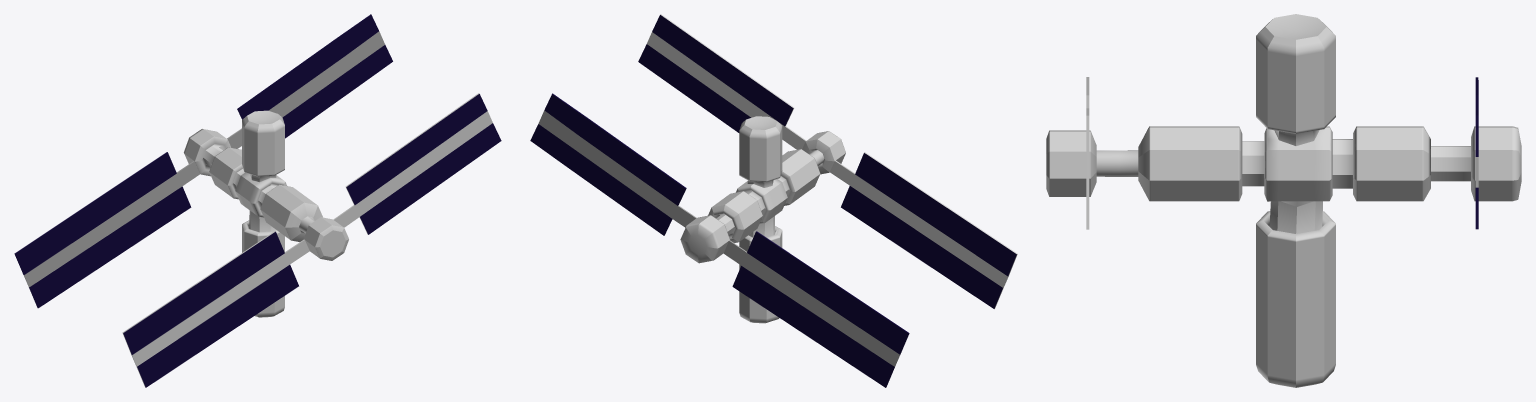
The model's file is StandaloneSatellite.fbx.
3 renders of one model, left to right at view 1: azimuth 30°, elevation 25°; view 2: azimuth 150°, elevation 25°; view 3: azimuth 270°, elevation 25°, orthographic. The views are drawn at different scales.
Visible parts, largest first — view 1: pCylinder9; view 2: pCylinder9; view 3: pCylinder9.
Boxes of the visible parts, x1,y1,x2,y2 form: pCylinder9: [14, 14, 501, 387]; pCylinder9: [530, 14, 1017, 387]; pCylinder9: [1046, 14, 1521, 387].
Size of the model in its own units: 5.94 by 3.33 by 3.59.
